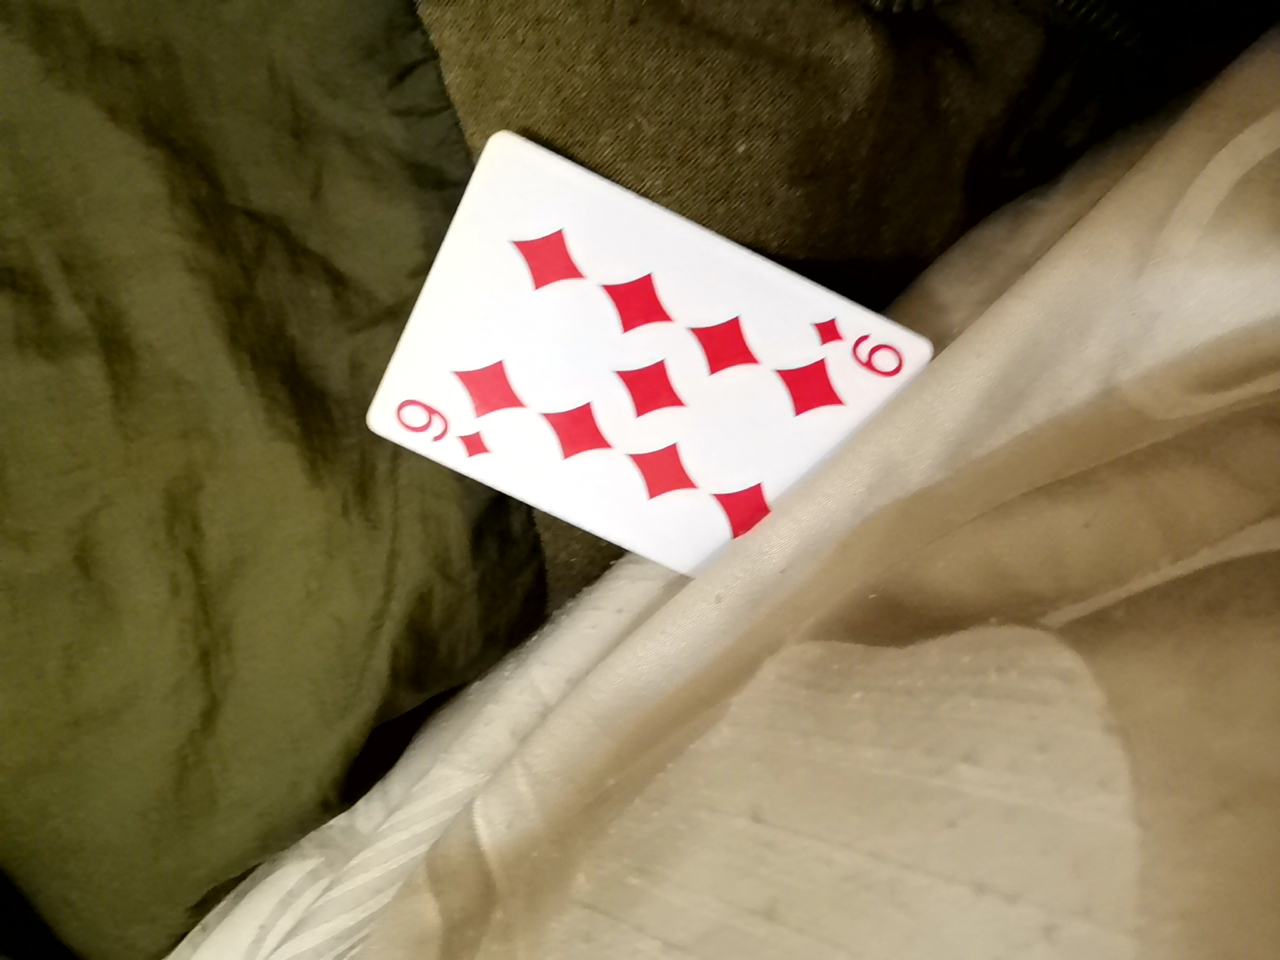fk 9: (373, 73, 965, 522)
